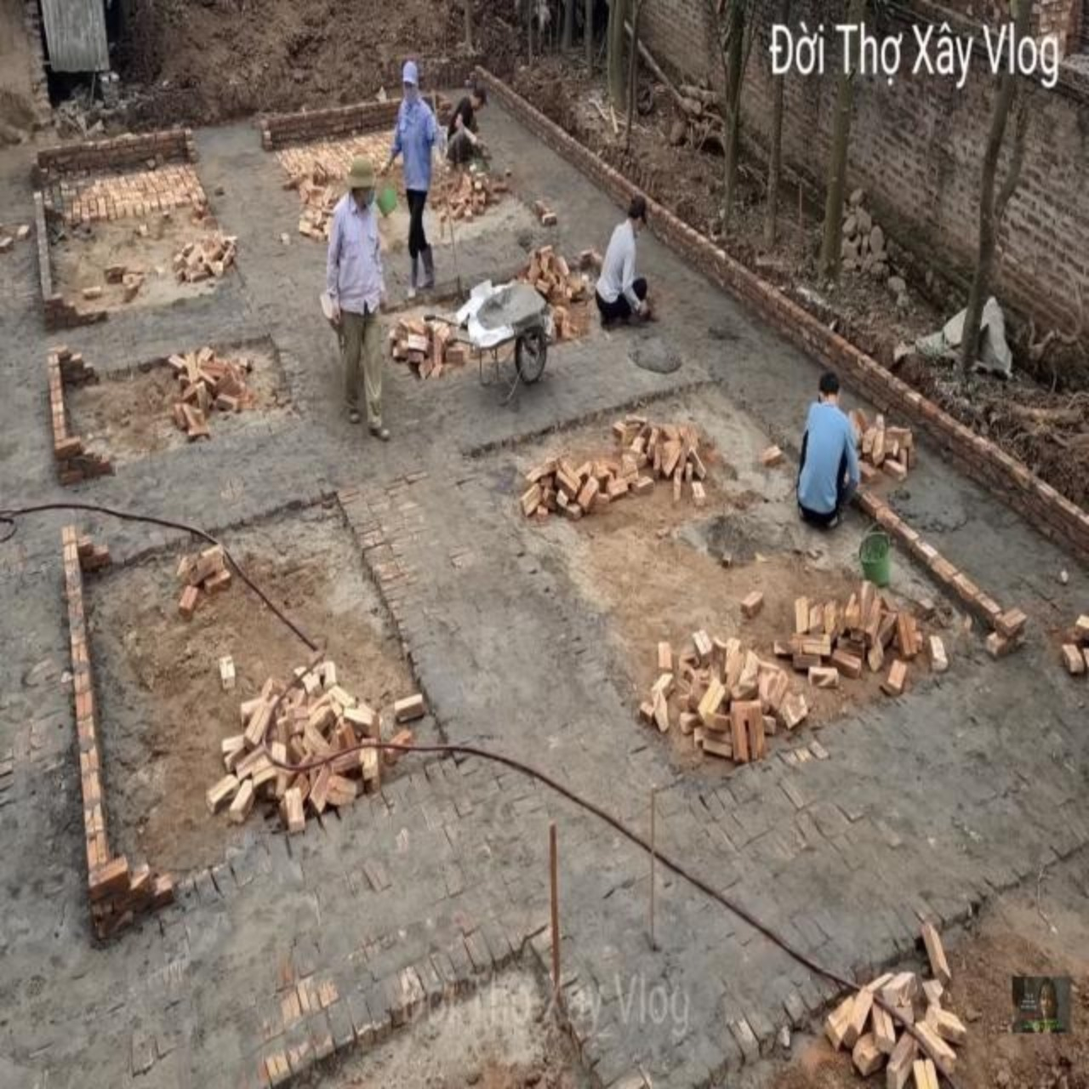no_helmet: (351, 157, 378, 211), (630, 193, 650, 236), (819, 370, 841, 406), (403, 60, 420, 103), (470, 84, 489, 113)
no_vest: (328, 190, 387, 314), (800, 402, 861, 510), (392, 98, 438, 191), (596, 216, 640, 311), (446, 98, 473, 147)
person: (327, 157, 391, 446), (377, 58, 447, 306), (799, 369, 862, 529), (595, 191, 651, 329), (446, 83, 490, 175)
